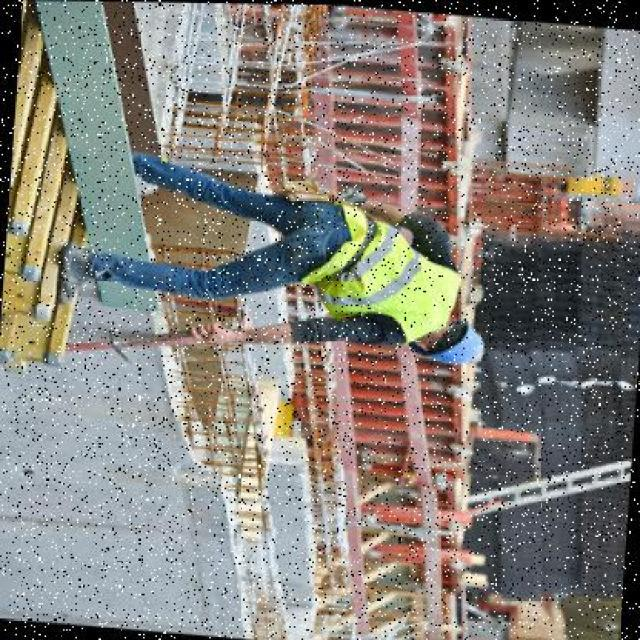helmet: (428, 316, 486, 366)
vest: (278, 192, 456, 344)
